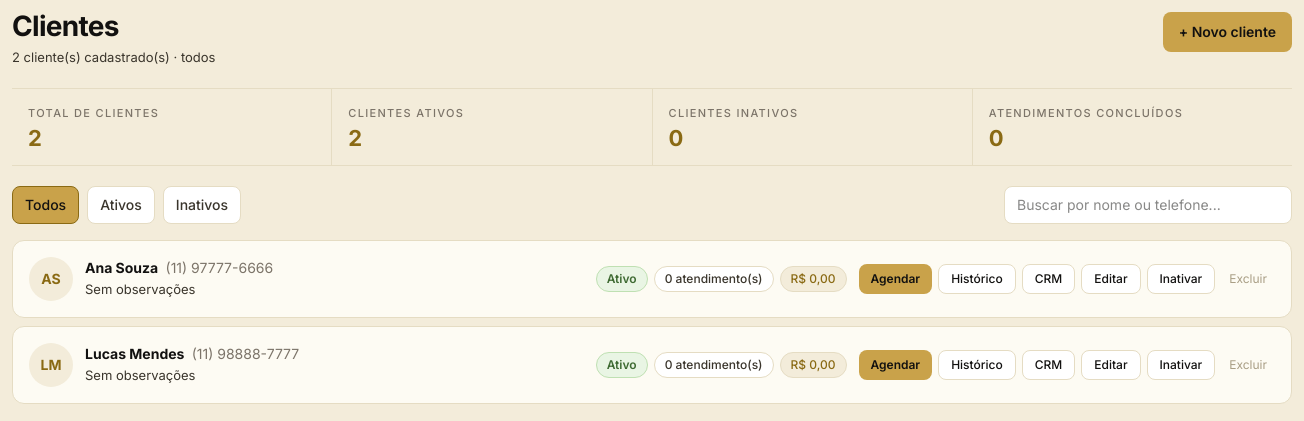
Test: Clientes — página (filtros, status e ações) › busca filtra por nome e por telefone
This screenshot has width=1304, height=421.
Type "ana" into the field named "Buscar cliente" at (1148, 205), box [1004,186,1292,224]
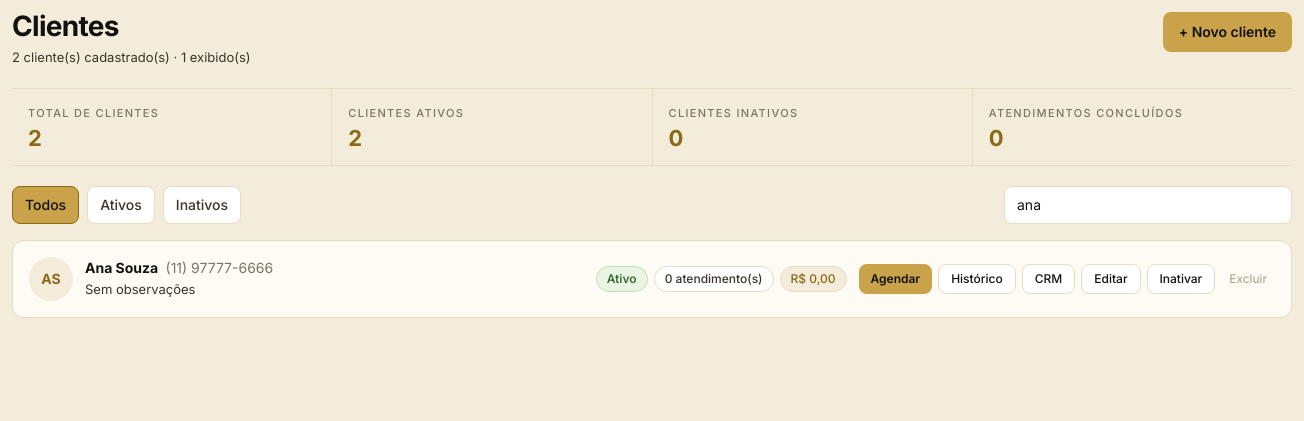
Expected: the text "Ana Souza" is shown, [85,259,158,276]
Expected: the text "Lucas Mendes" is gone
Replace the text in the field named "Buscar cliente" with "98888" at (1148, 205), box [1004,186,1292,224]
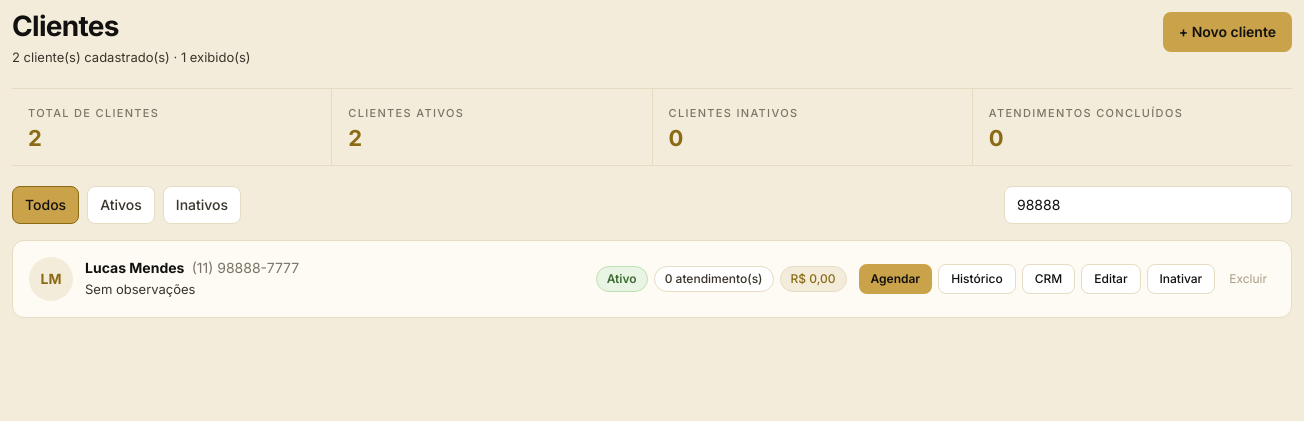
Expected: the text "Lucas Mendes" is shown, [85,259,184,276]
Expected: the text "Ana Souza" is gone
